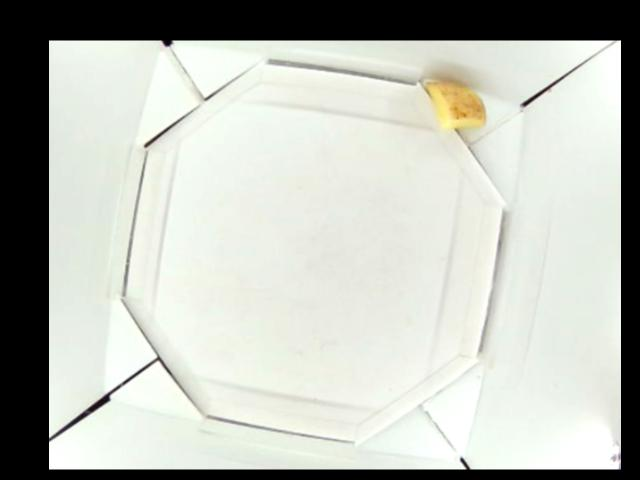Potato: (424, 81, 486, 127)
